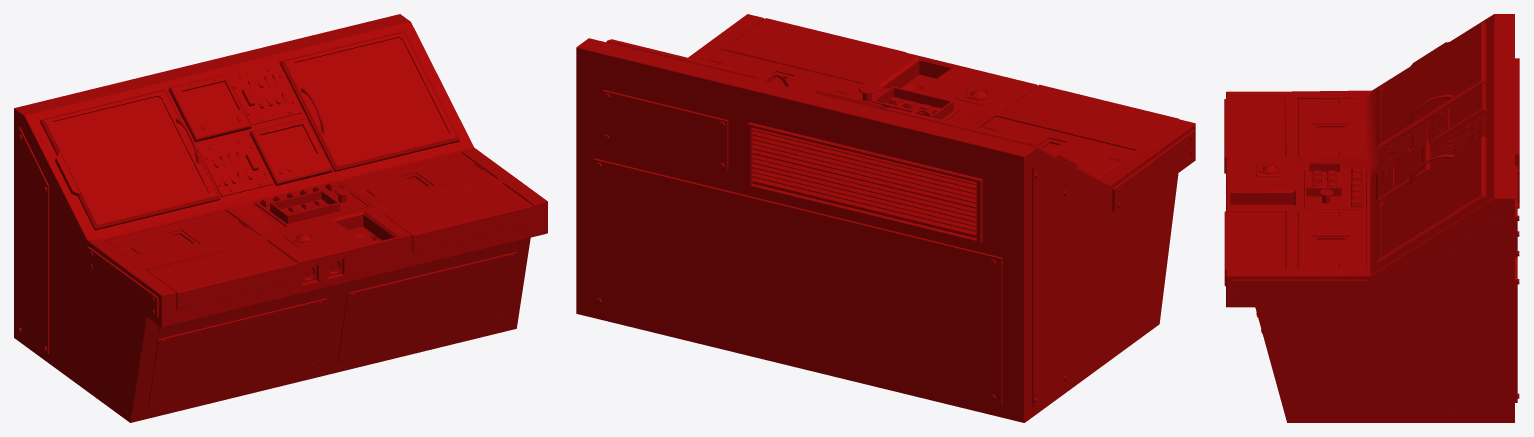
File: centeral computer unreal 2.fbx
3 renders of one model, left to right at view 1: azimuth 30°, elevation 25°; view 2: azimuth 150°, elevation 25°; view 3: azimuth 270°, elevation 25°, orthographic. The views are drawn at different scales.
Parts seen in each view (by area): view 1: central_computer; view 2: central_computer; view 3: central_computer.
Boxes of the visible parts, x1,y1,x2,y2 form: central_computer: (14, 14, 547, 422); central_computer: (576, 14, 1195, 422); central_computer: (1224, 14, 1519, 422).
Bounding box in the file's own units: 24.46 × 13.7 × 16.31.
